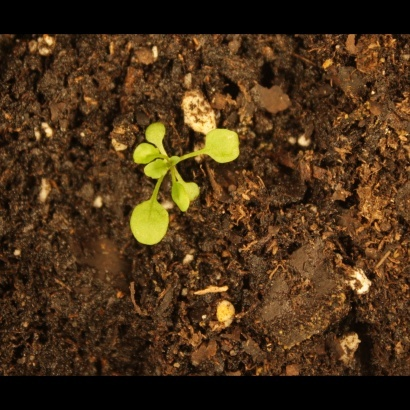leaf: (126, 195, 173, 250), (202, 124, 250, 167), (141, 119, 178, 148), (131, 137, 161, 167), (139, 160, 175, 185), (166, 185, 195, 211), (179, 180, 207, 203)
